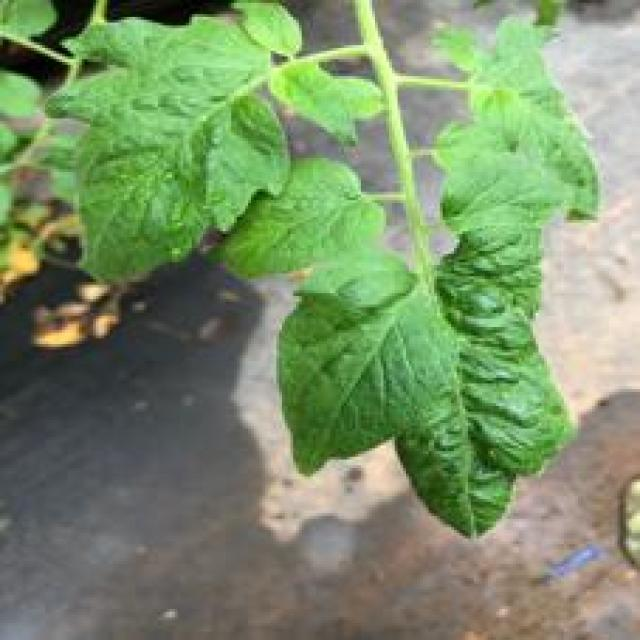Healthy Leaf: (48, 5, 294, 297), (391, 277, 574, 539), (274, 272, 454, 481), (219, 149, 391, 289)
